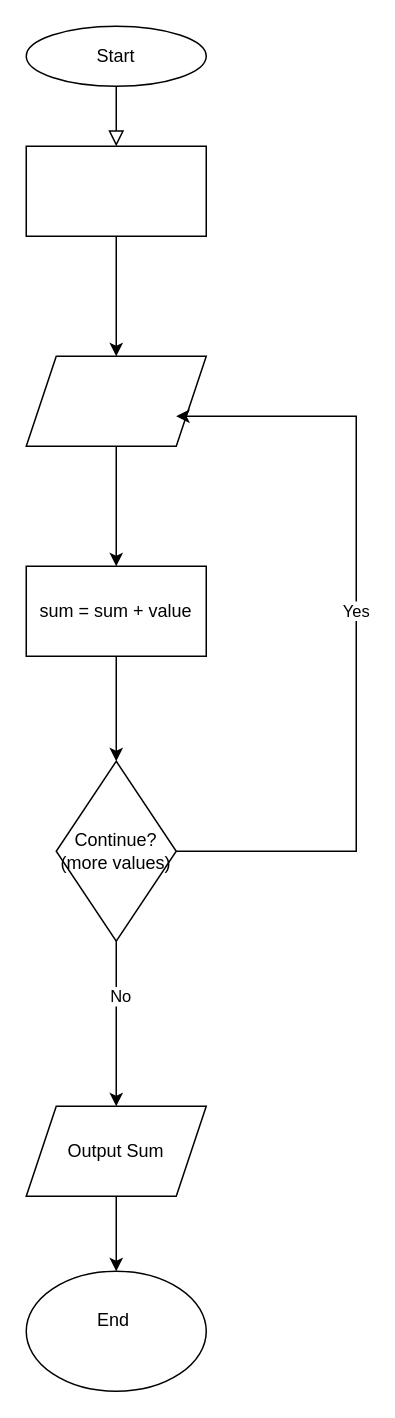
Image size: 395x1418. Some labels were removed from this diagram. The shapes that lost their labels are listed below. From the top down, each one's centre as x and y in pixels, then its label:
At point 115,190: "Initialize sum = 0".
At point 115,400: "Input Value".
